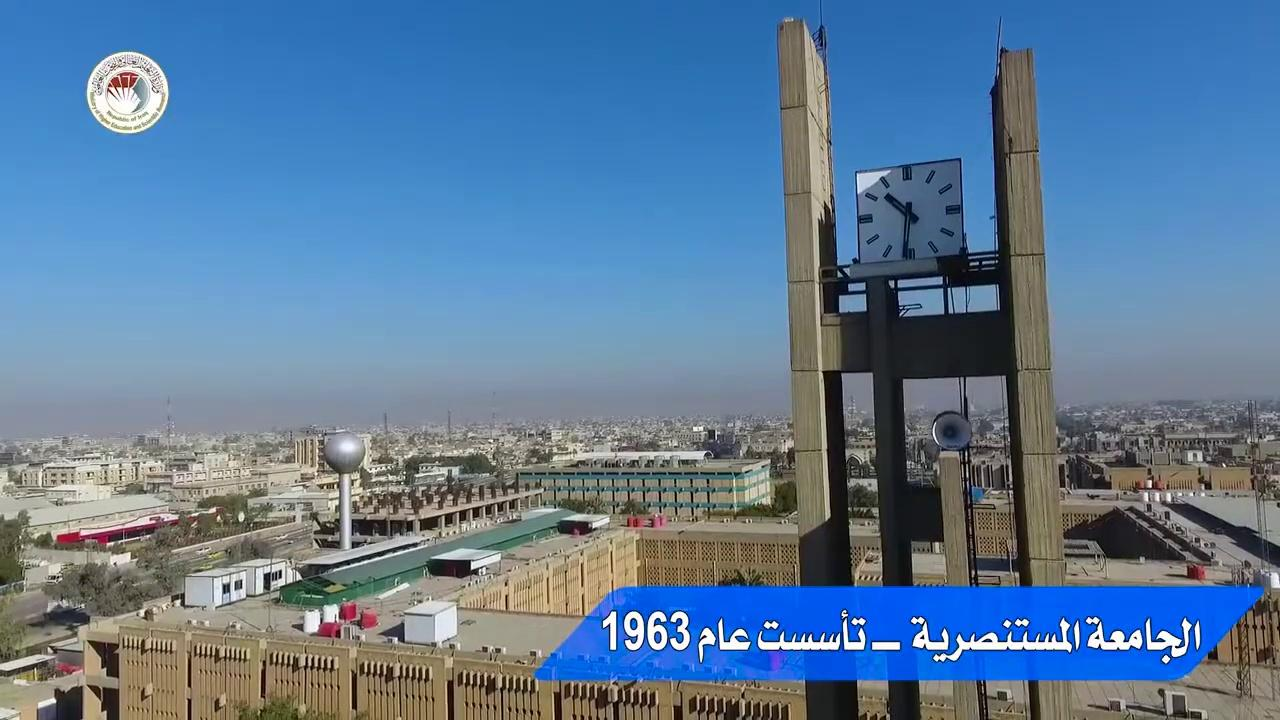car: (55, 661, 82, 675)
tree: (39, 493, 271, 617), (41, 559, 162, 616), (0, 508, 33, 584), (0, 606, 26, 660), (847, 481, 877, 517), (716, 566, 765, 586)
